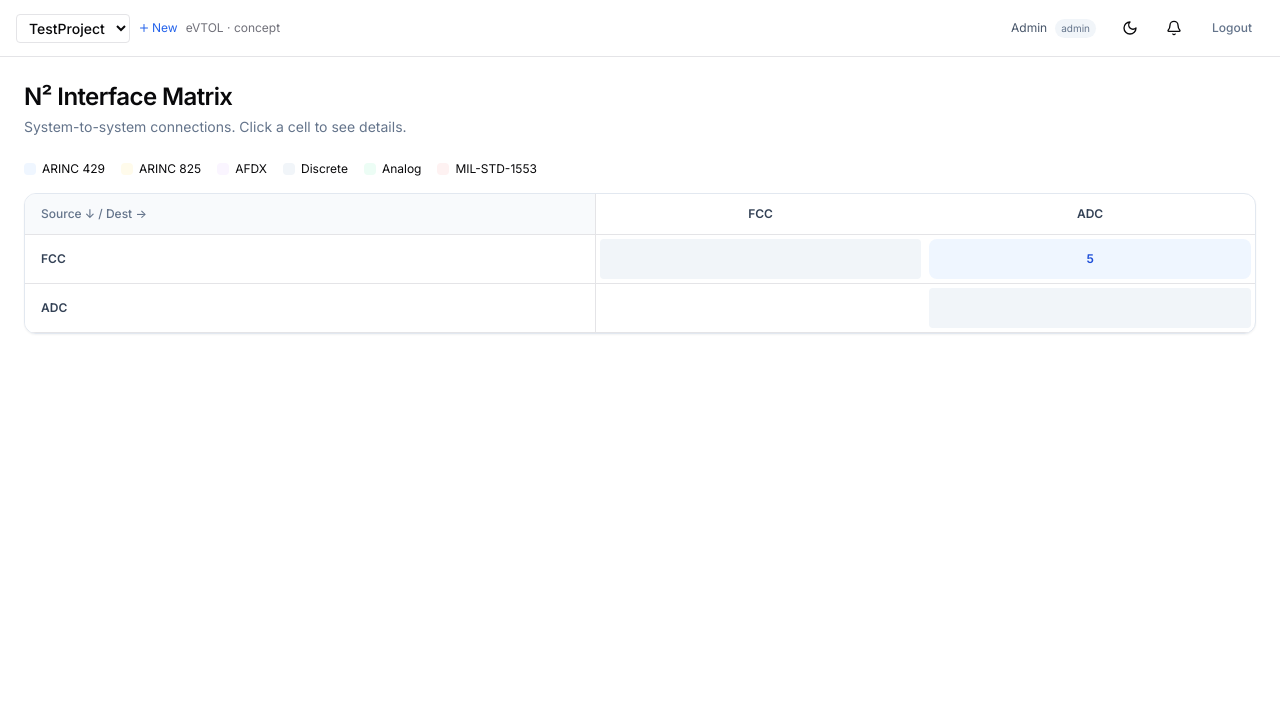
N2 Matrix Page › close button hides detail panel
Click the button "5": (1090, 259) [929,239,1251,279]
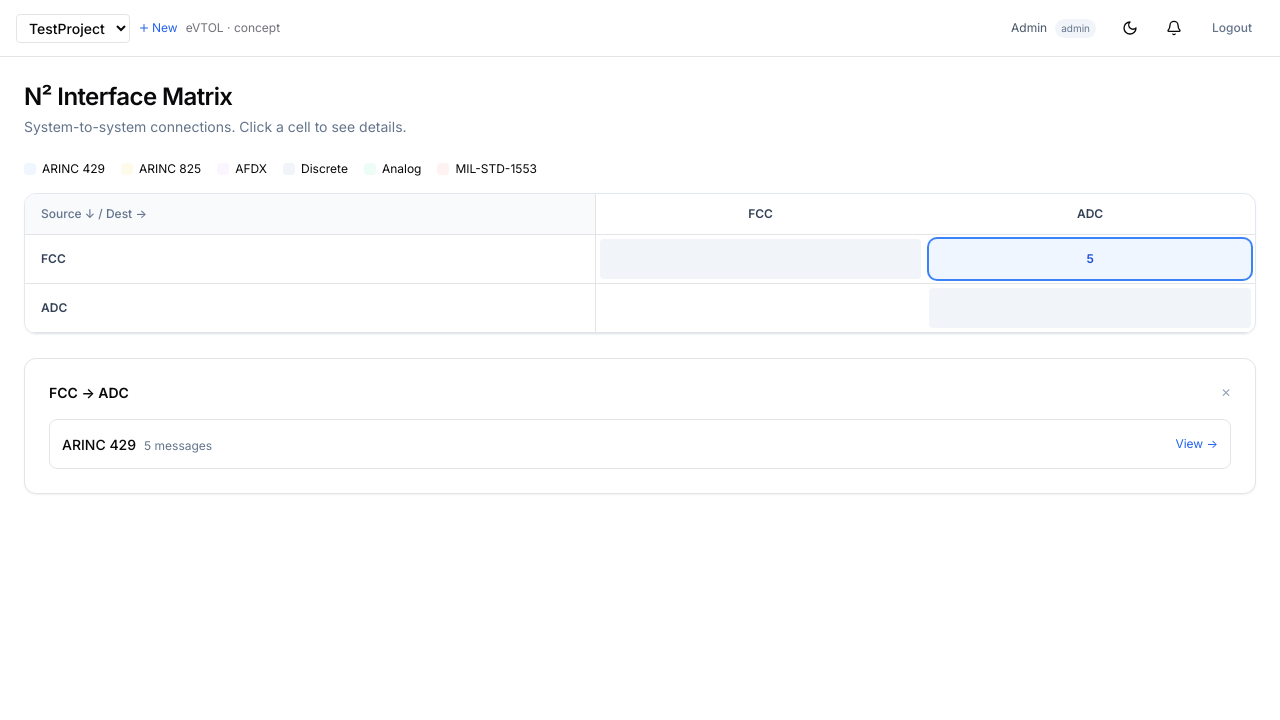
Expected: the heading "FCC → ADC" is shown, [49,383,129,403]
Click the button "✕": (1226, 393) [1221,385,1231,401]
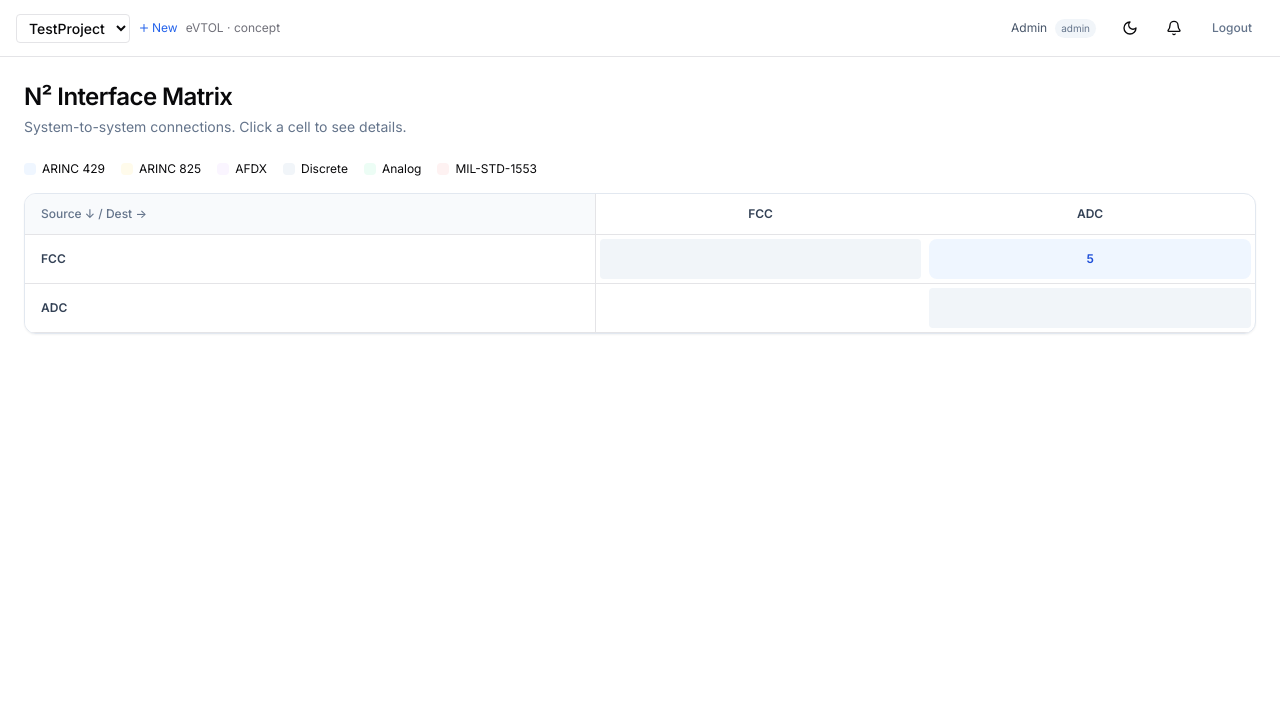
Expected: the heading "FCC → ADC" is gone
